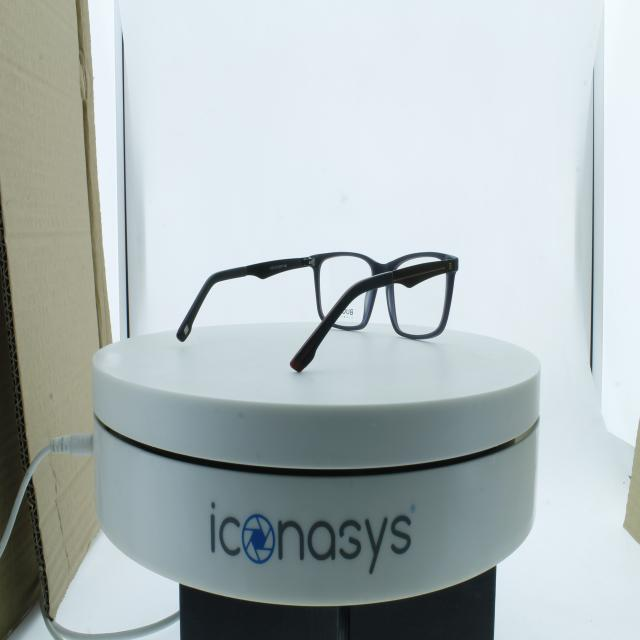Specs: (168, 232, 475, 386)
